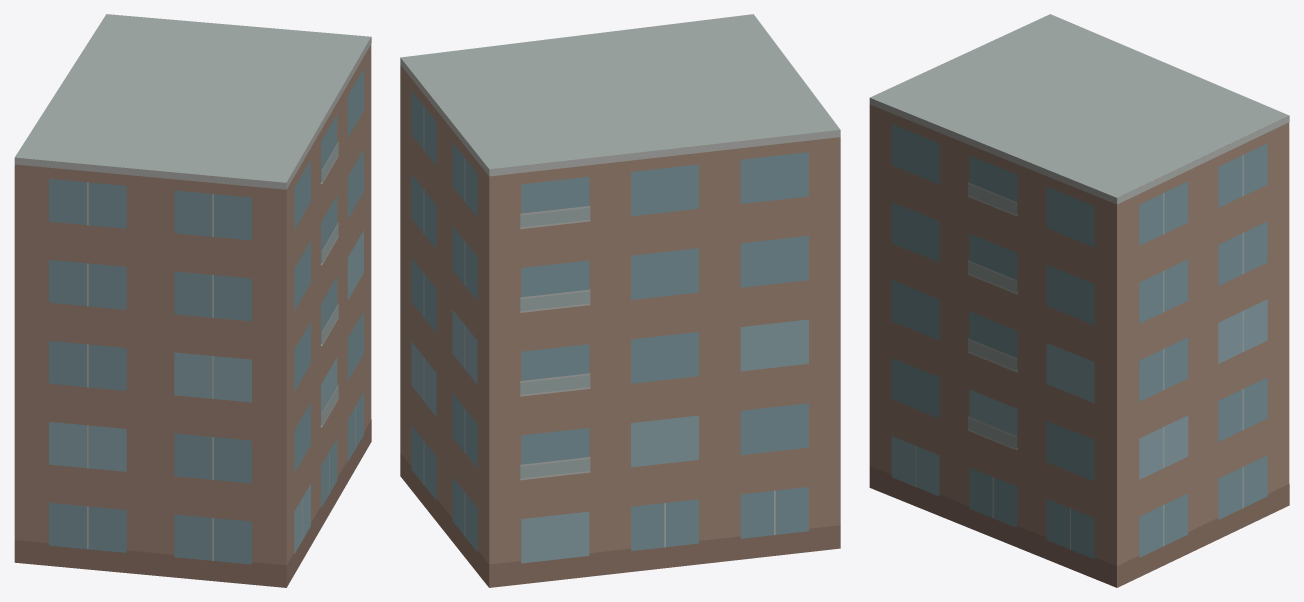
File: survey-upis-32904956.glb
3 views of the same model, side by side, from view 1: azimuth 30°, elevation 25°; view 2: azimuth 150°, elevation 25°; view 3: azimuth 270°, elevation 25° (orthographic). The views are drawn at different scales.
Parts seen in each view (by area): view 1: survey-upis-32904956.tmp; view 2: survey-upis-32904956.tmp; view 3: survey-upis-32904956.tmp.
Part boxes in pixels (x1,y1,x2,y2): survey-upis-32904956.tmp: (14, 14, 371, 587); survey-upis-32904956.tmp: (400, 14, 840, 587); survey-upis-32904956.tmp: (869, 14, 1289, 587).
Bounding box in the file's own units: 14.47 × 14.3 × 13.96.
